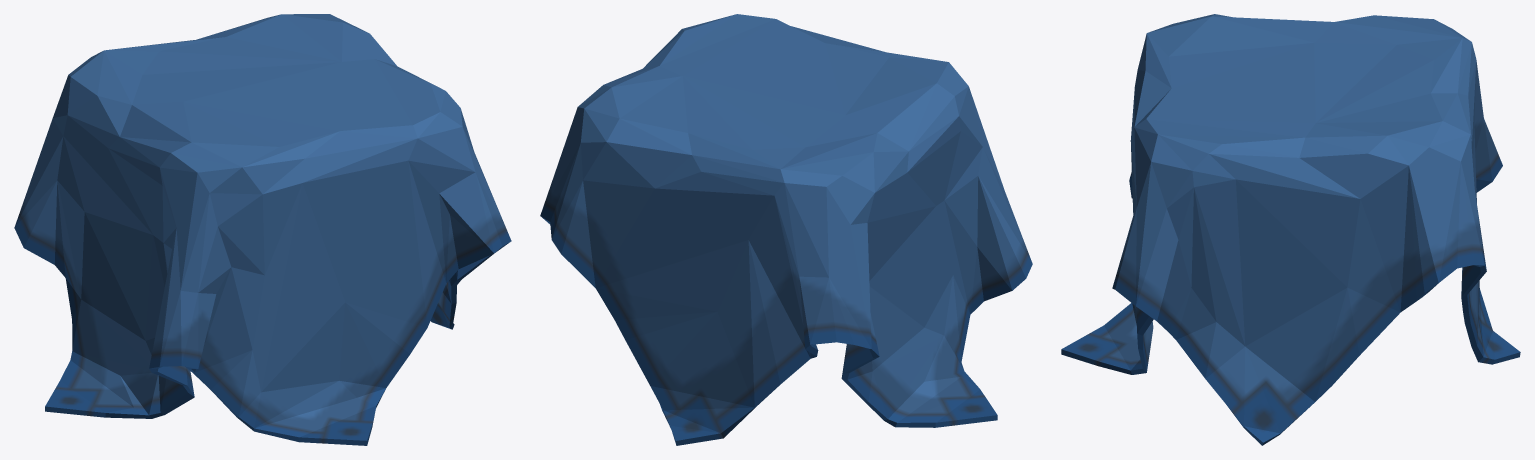
File: SM_Prop_BarrelStack_03_Tarp.fbx
The picture shows the model from 3 angles, left to right: view 1: azimuth 30°, elevation 25°; view 2: azimuth 150°, elevation 25°; view 3: azimuth 270°, elevation 25°; orthographic projection. The views are drawn at different scales.
Visible parts, largest first — view 1: SM_Prop_BarrelStack_03_Tarp; view 2: SM_Prop_BarrelStack_03_Tarp; view 3: SM_Prop_BarrelStack_03_Tarp.
Part boxes in pixels (x1,y1,x2,y2): SM_Prop_BarrelStack_03_Tarp: [14, 14, 511, 445]; SM_Prop_BarrelStack_03_Tarp: [540, 14, 1032, 445]; SM_Prop_BarrelStack_03_Tarp: [1061, 14, 1520, 445].
Bounding box in the file's own units: 200 × 135 × 196.
